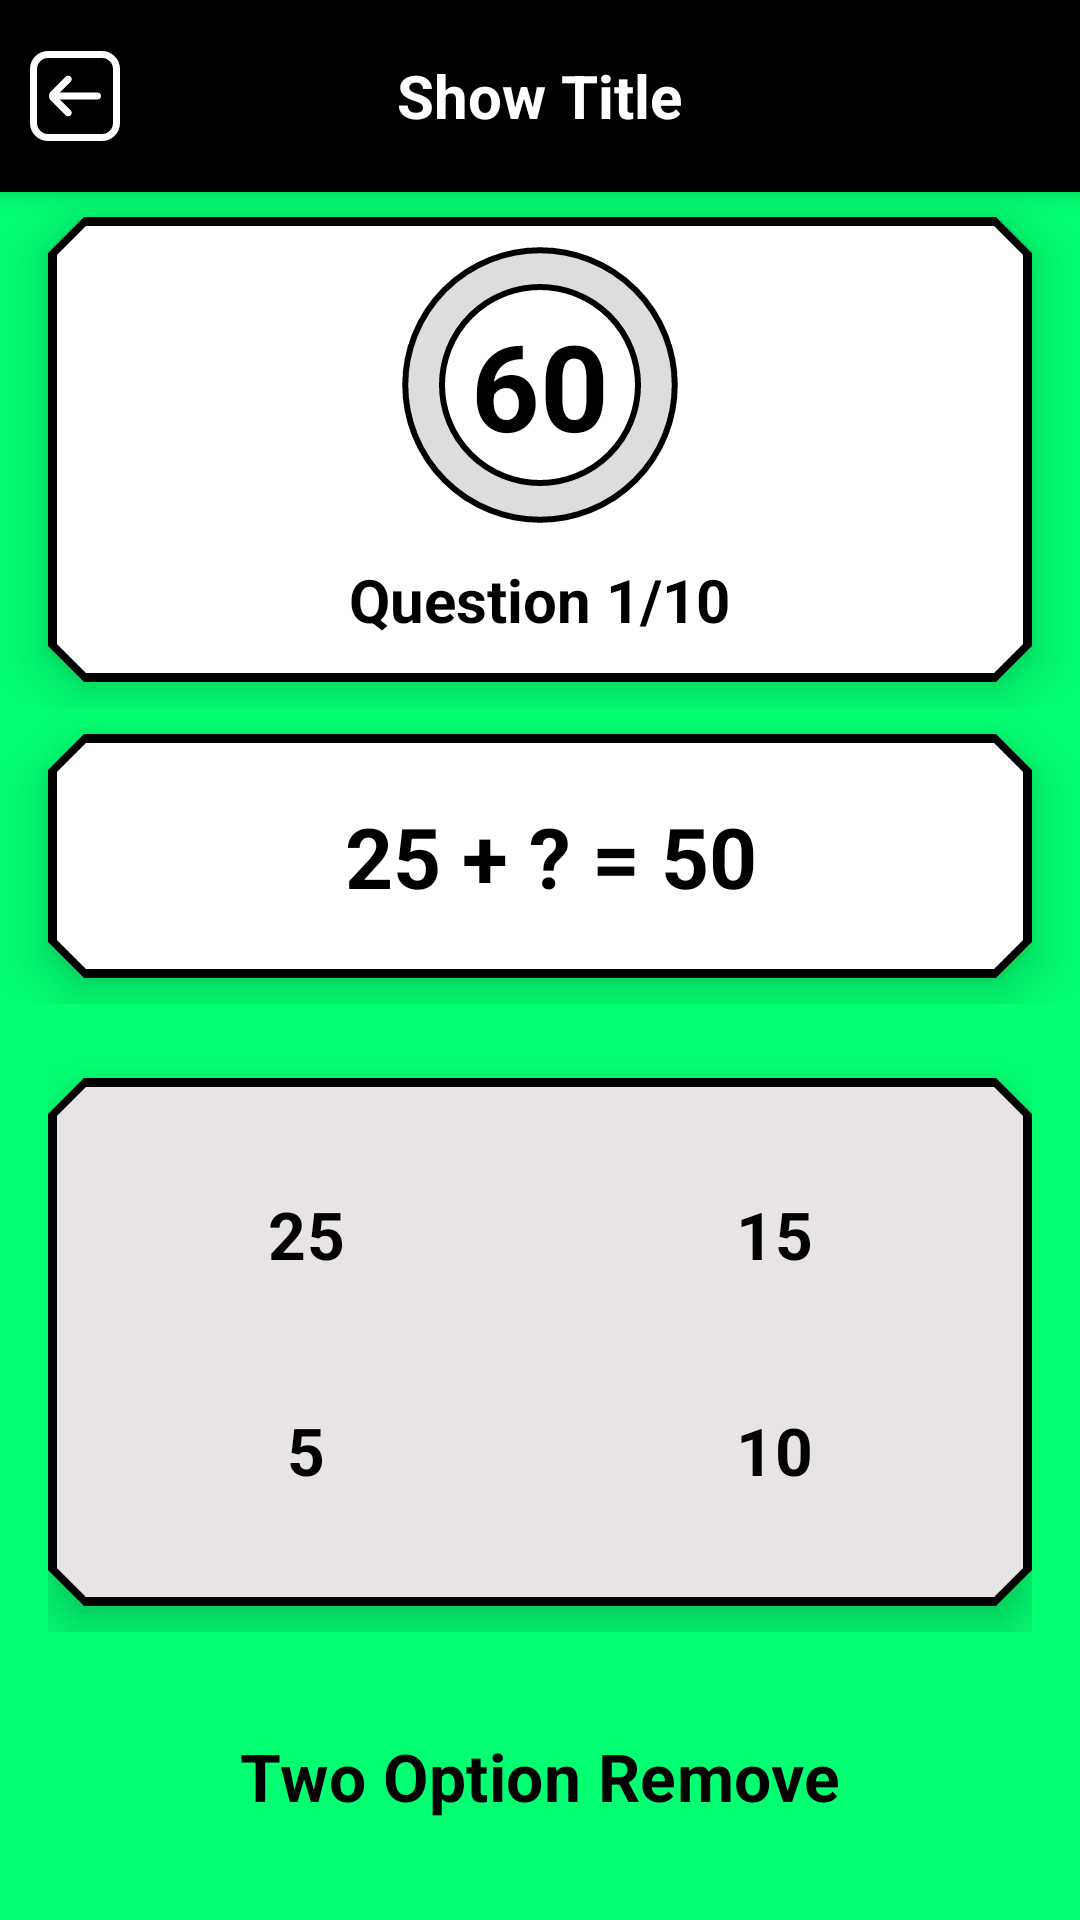

Point at icon controls on the screen. Image size 1080x1920, points as [x,y].
back: [75,96]
